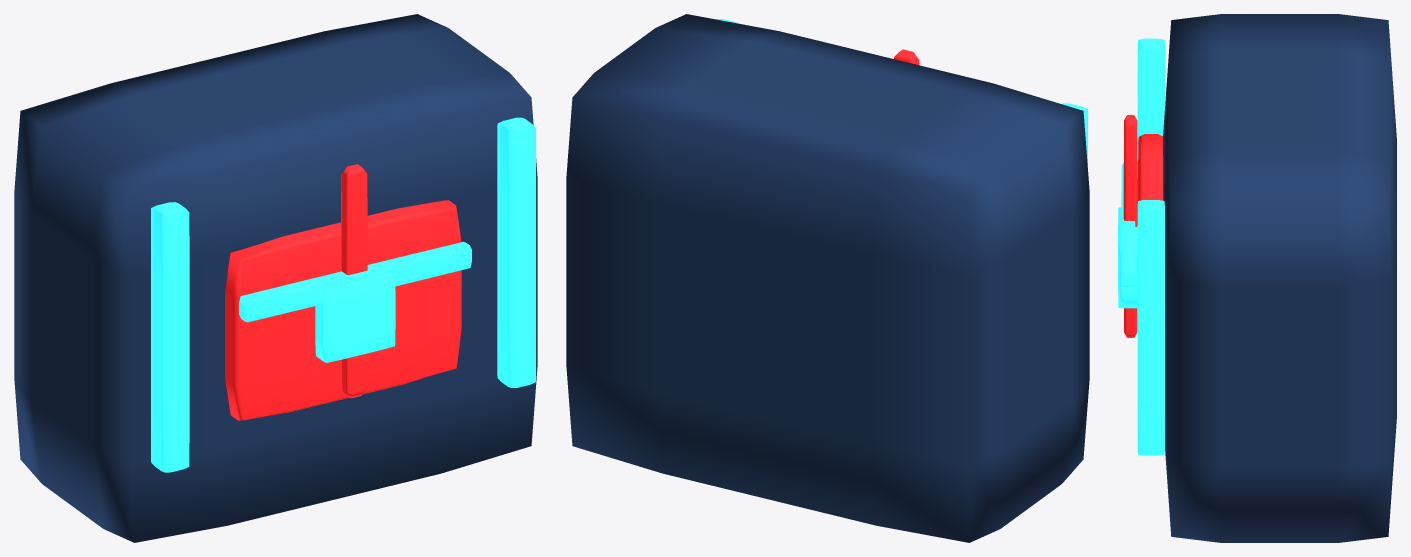
File: acrobat-digital.glb
3 views of the same model, side by side, from view 1: azimuth 30°, elevation 25°; view 2: azimuth 150°, elevation 25°; view 3: azimuth 270°, elevation 25° (orthographic). The views are drawn at different scales.
Parts seen in each view (by area): view 1: Torso, Panel, StripeR, StripeL, Core, WebLine2, WebLine1; view 2: Torso; view 3: Torso, StripeR, StripeL, WebLine1, Panel, WebLine2, Core.
Part boxes in pixels (bbox=[...]): Torso: bbox=[14, 14, 537, 542]; Panel: bbox=[225, 200, 461, 420]; StripeR: bbox=[497, 117, 535, 387]; StripeL: bbox=[151, 202, 189, 472]; Core: bbox=[315, 273, 395, 362]; WebLine2: bbox=[239, 241, 471, 322]; WebLine1: bbox=[341, 164, 367, 398]; Torso: bbox=[566, 14, 1089, 542]; Torso: bbox=[1163, 14, 1396, 542]; StripeR: bbox=[1137, 200, 1164, 455]; StripeL: bbox=[1137, 38, 1164, 178]; WebLine1: bbox=[1123, 115, 1137, 337]; Panel: bbox=[1137, 134, 1163, 203]; WebLine2: bbox=[1121, 164, 1135, 288]; Core: bbox=[1118, 207, 1137, 308].
Size of the model in its own units: 2.05 by 1.72 by 1.22.
